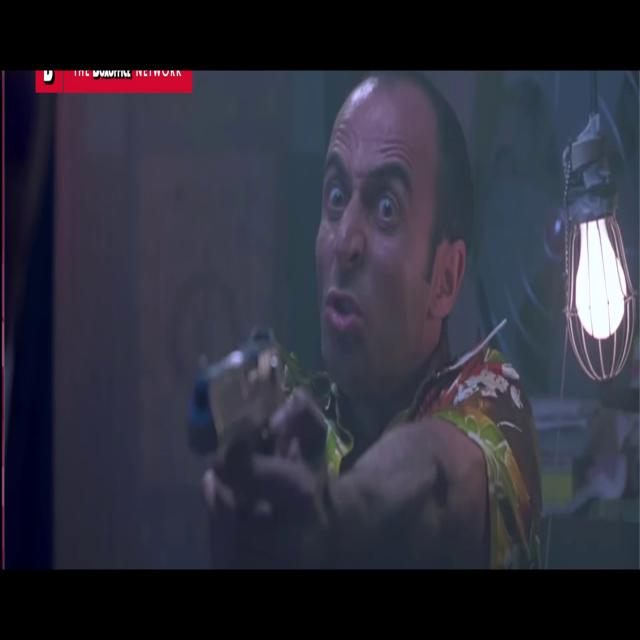weapons: (176, 307, 303, 531)
